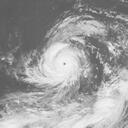cyclone: (40, 42, 85, 80)
